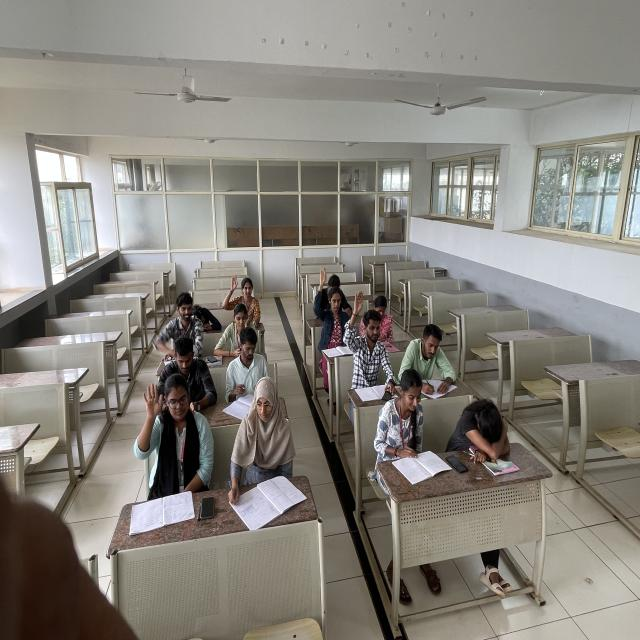Hand Rising: (132, 374, 212, 506), (344, 290, 390, 390), (314, 266, 347, 348), (220, 272, 264, 315)
Reading: (373, 366, 435, 479)
Sleeping: (447, 392, 520, 468), (192, 298, 224, 335)
Using Phone: (158, 336, 217, 401), (213, 298, 260, 356), (372, 293, 397, 350)
Writing: (226, 374, 298, 513), (407, 322, 458, 392), (222, 327, 267, 406)
